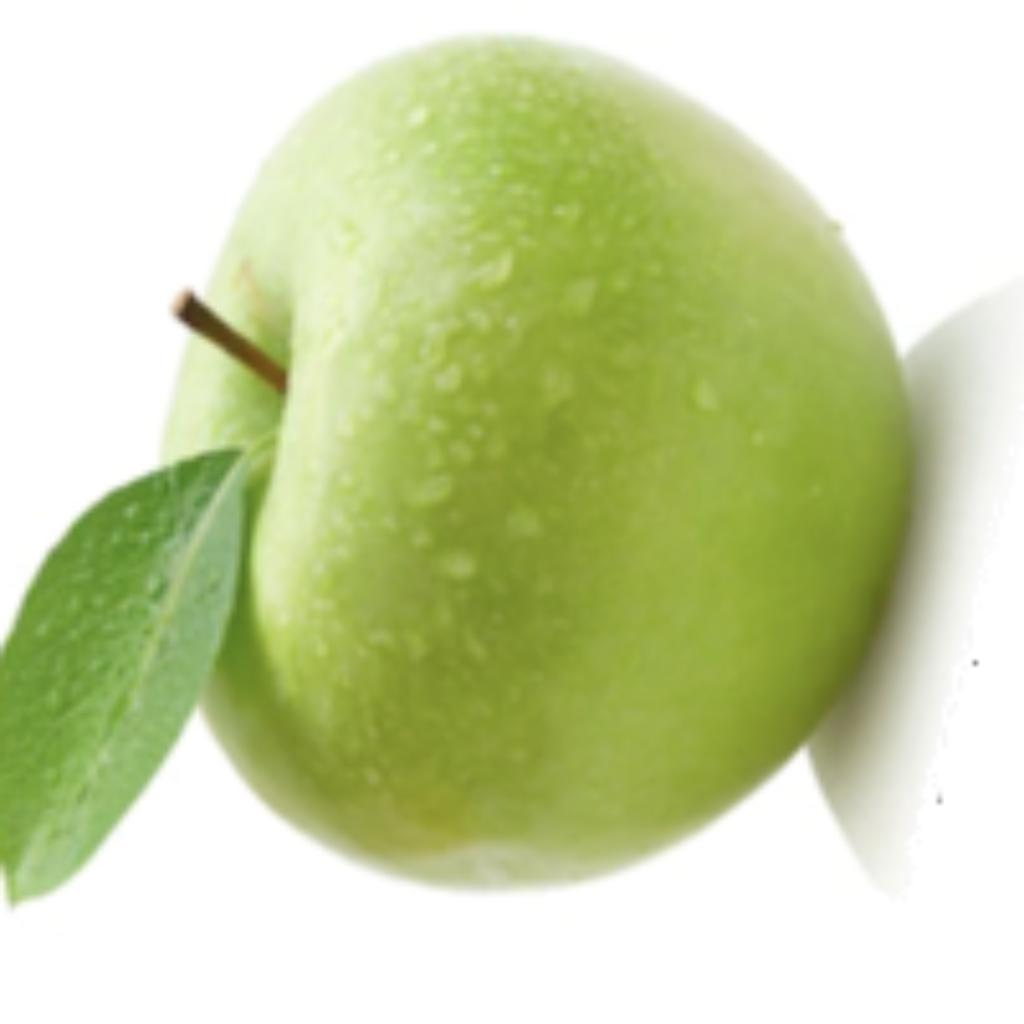apple: (0, 26, 1014, 906)
